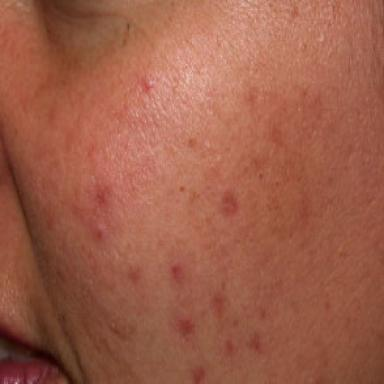acne: (222, 191, 238, 214), (178, 319, 194, 336), (140, 76, 155, 94), (93, 221, 106, 241), (171, 264, 183, 282), (192, 367, 205, 383), (226, 340, 234, 356)
